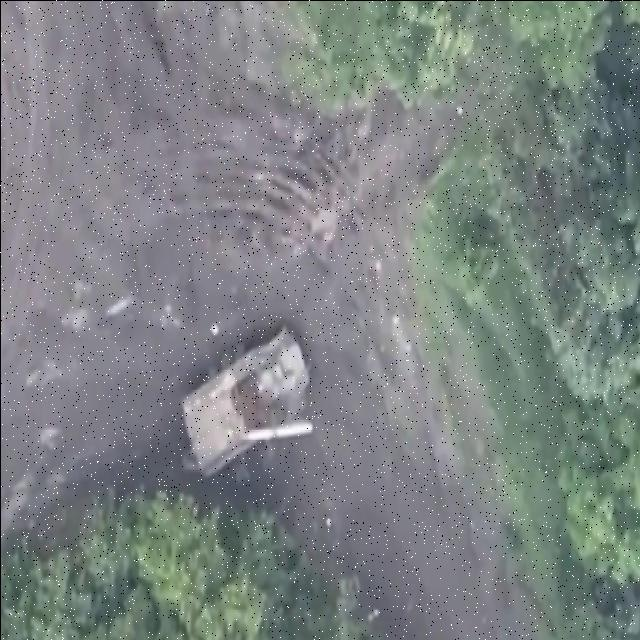APC-IFV: (178, 324, 318, 482)
